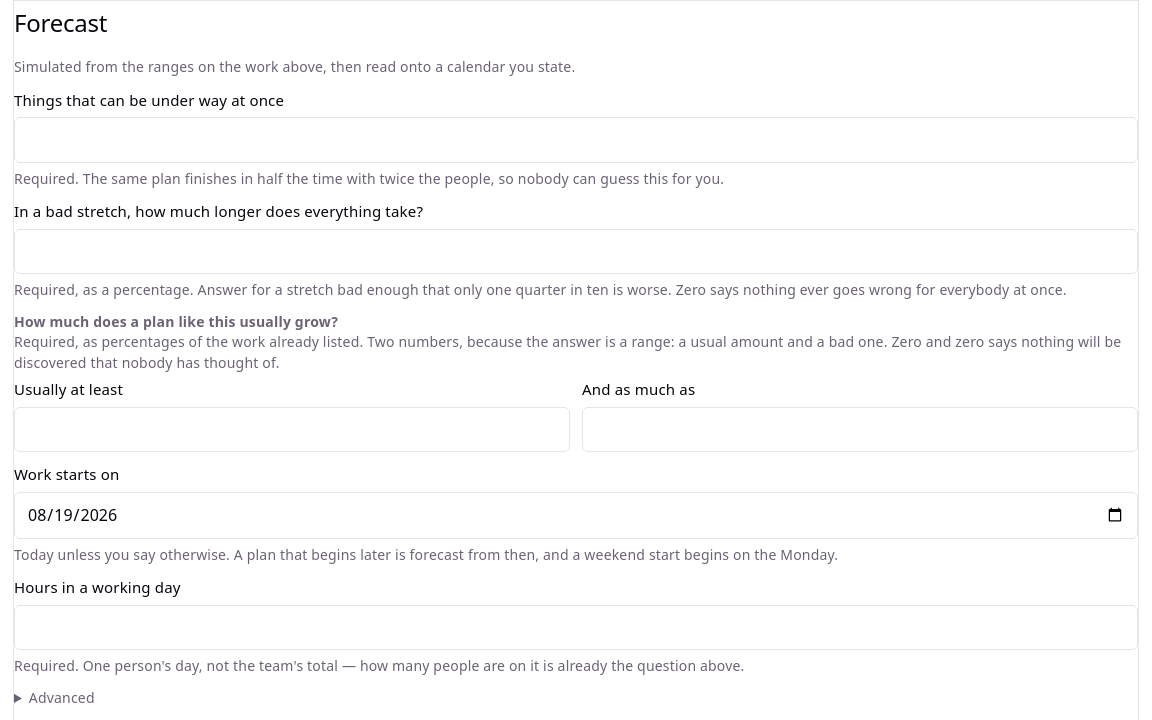
Scenario: ForecastPanel › shows a refused working day against the working day box
Expected: the heading "Forecast" is shown, [14, 6, 107, 39]
Step 1. Type "2" into the number field labelled "Things that can be under way at once" → (576, 140), box [14, 117, 1138, 163]
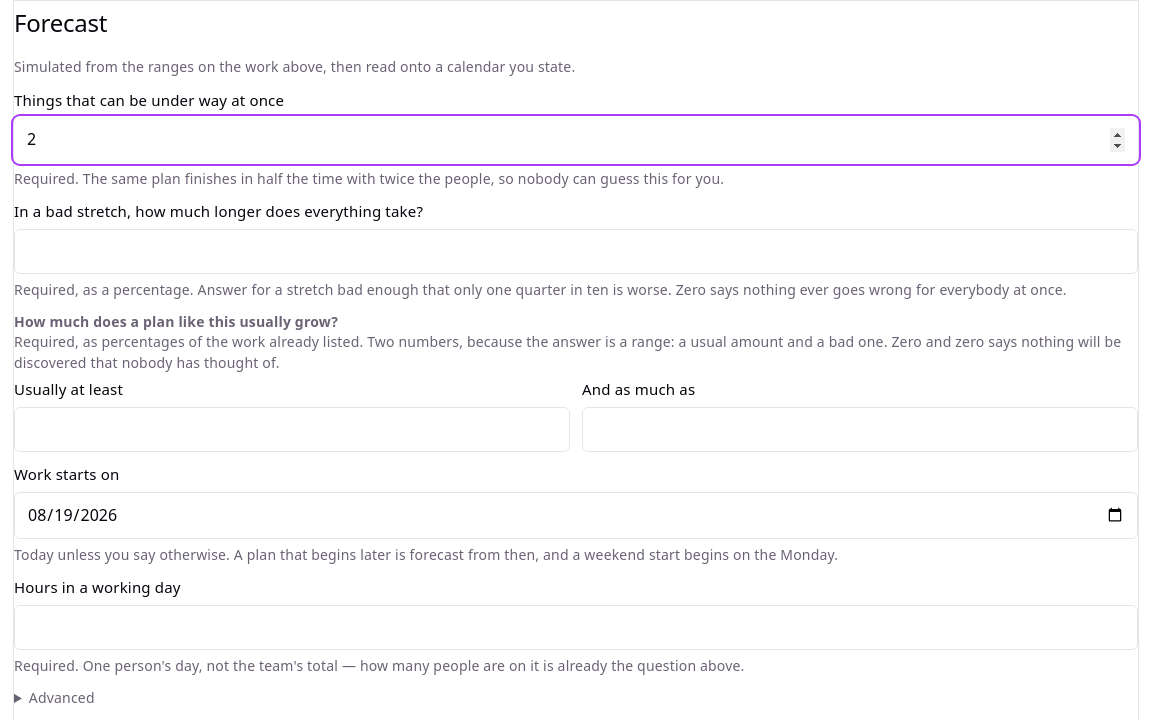
Step 2. Type "30" into the number field labelled "In a bad stretch, how much longer does everything take?" → (576, 251), box [14, 229, 1138, 274]
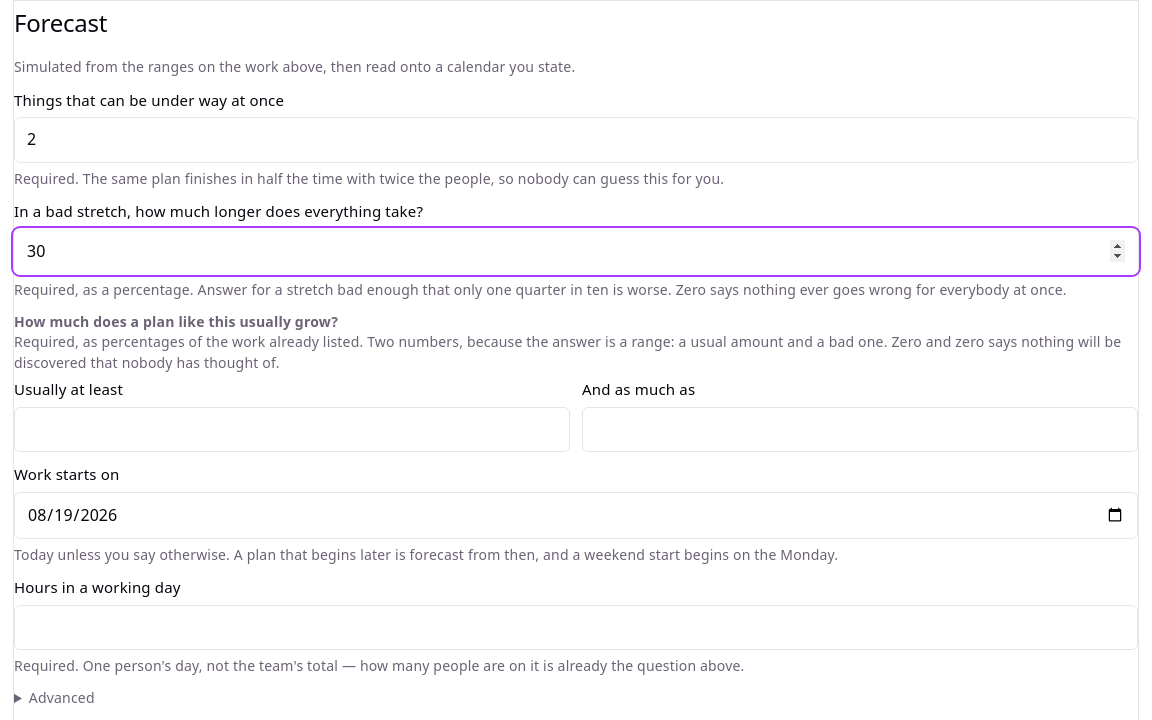
Step 3. Type "20" into the number field labelled "Usually at least" → (292, 429), box [14, 407, 570, 452]
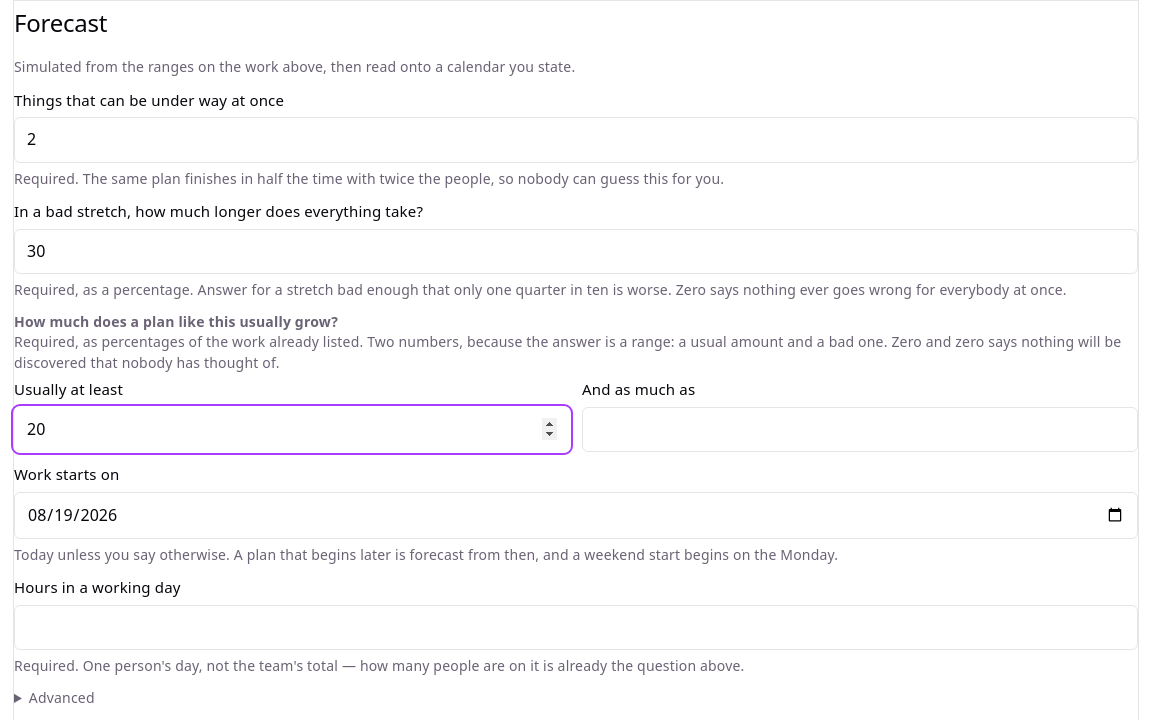
Step 4. Type "60" into the number field labelled "And as much as" → (860, 429), box [582, 407, 1138, 452]
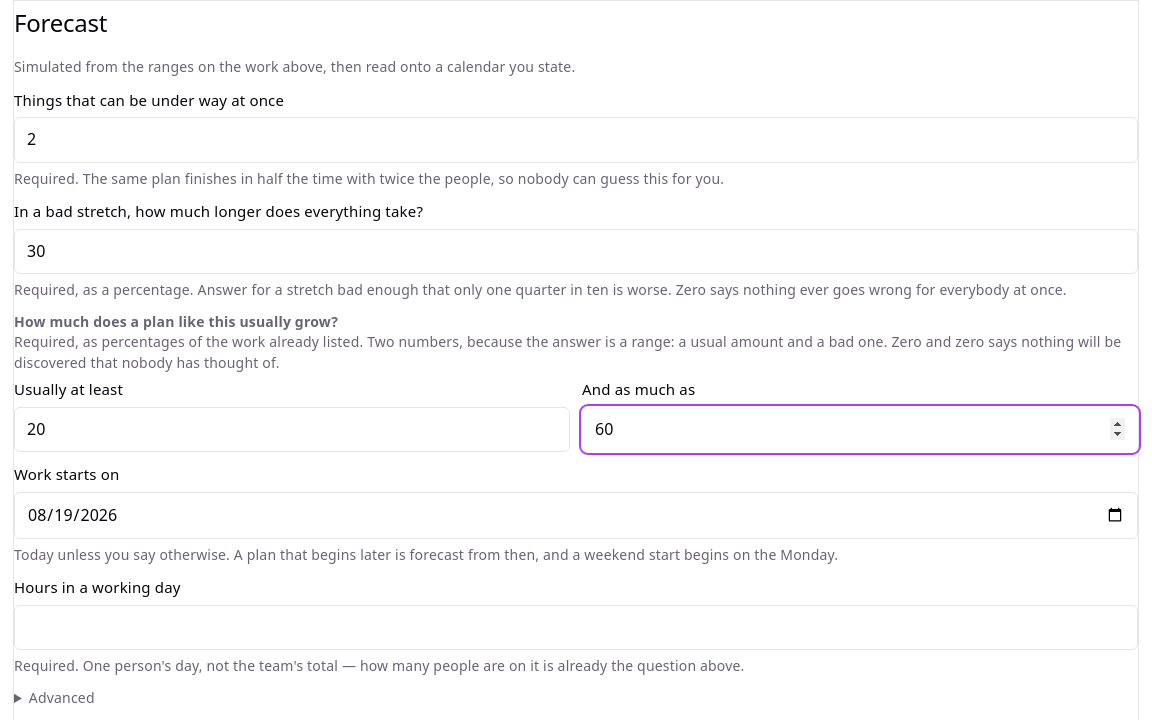
Step 5. Type "25" into the number field labelled "Hours in a working day" → (576, 628), box [14, 605, 1138, 650]
(page scrolled)
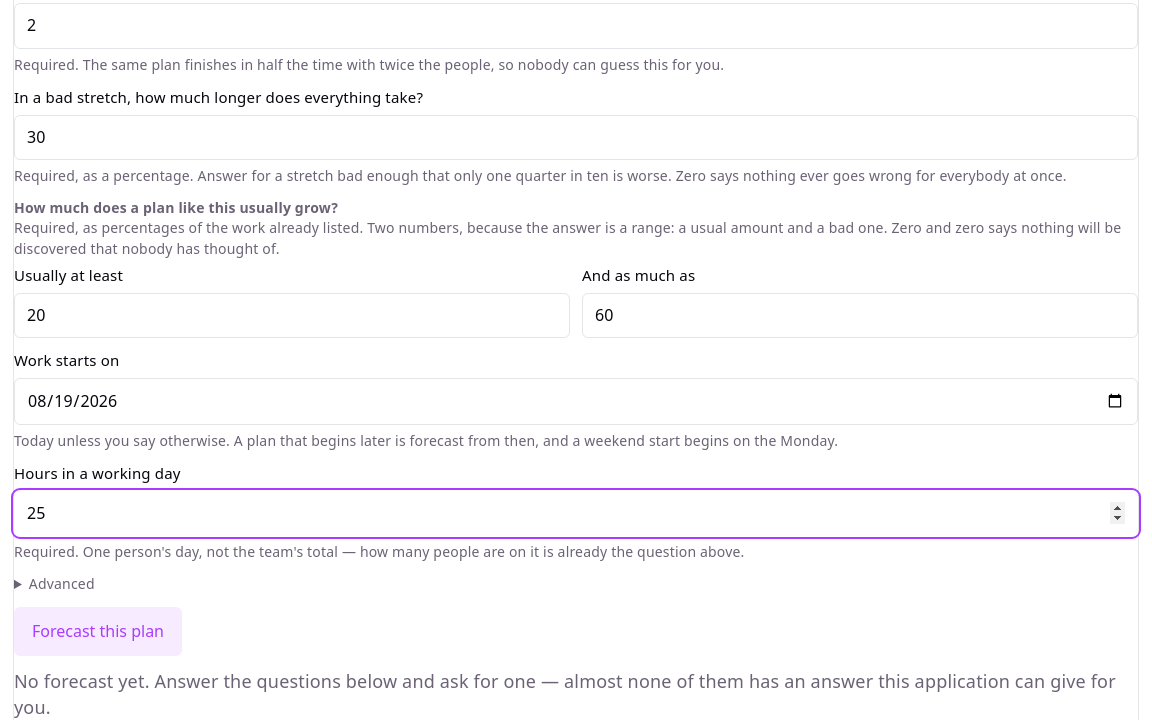
Step 6. Click the button "Forecast this plan" → (98, 631), box [14, 607, 182, 656]
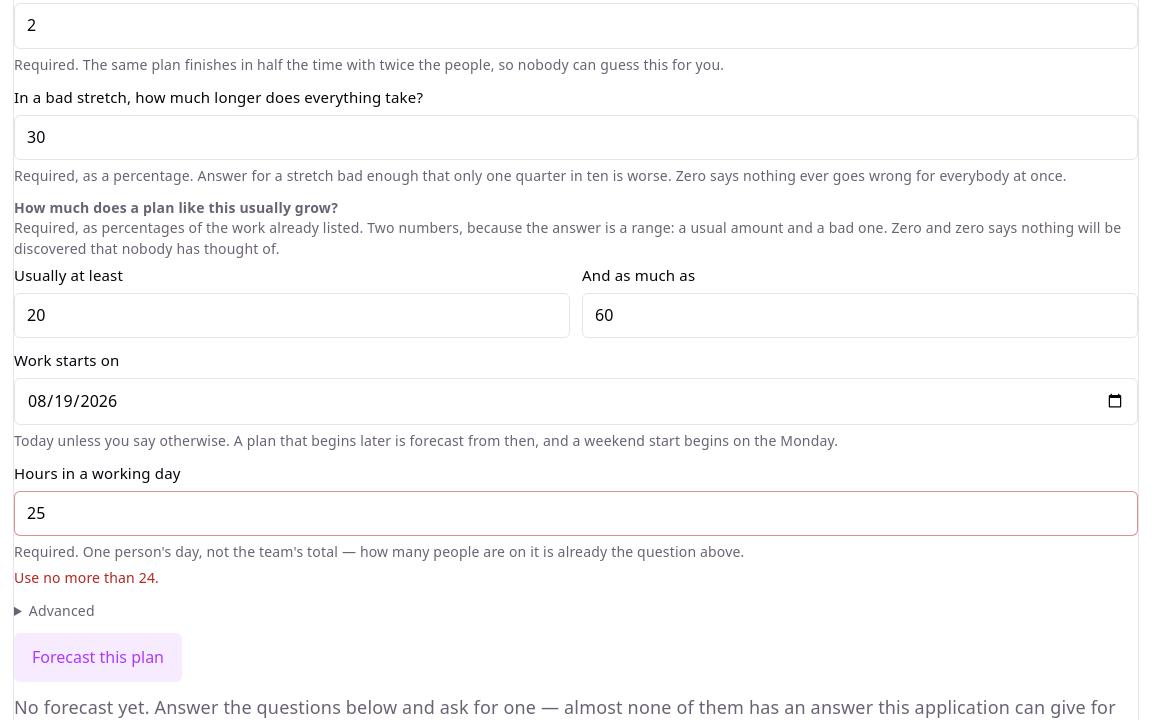
Now the text "Use no more than 24." is shown, box [14, 568, 159, 587]
